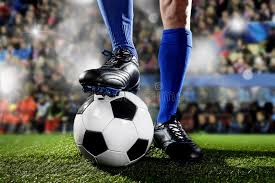football ball: (72, 91, 158, 170)
